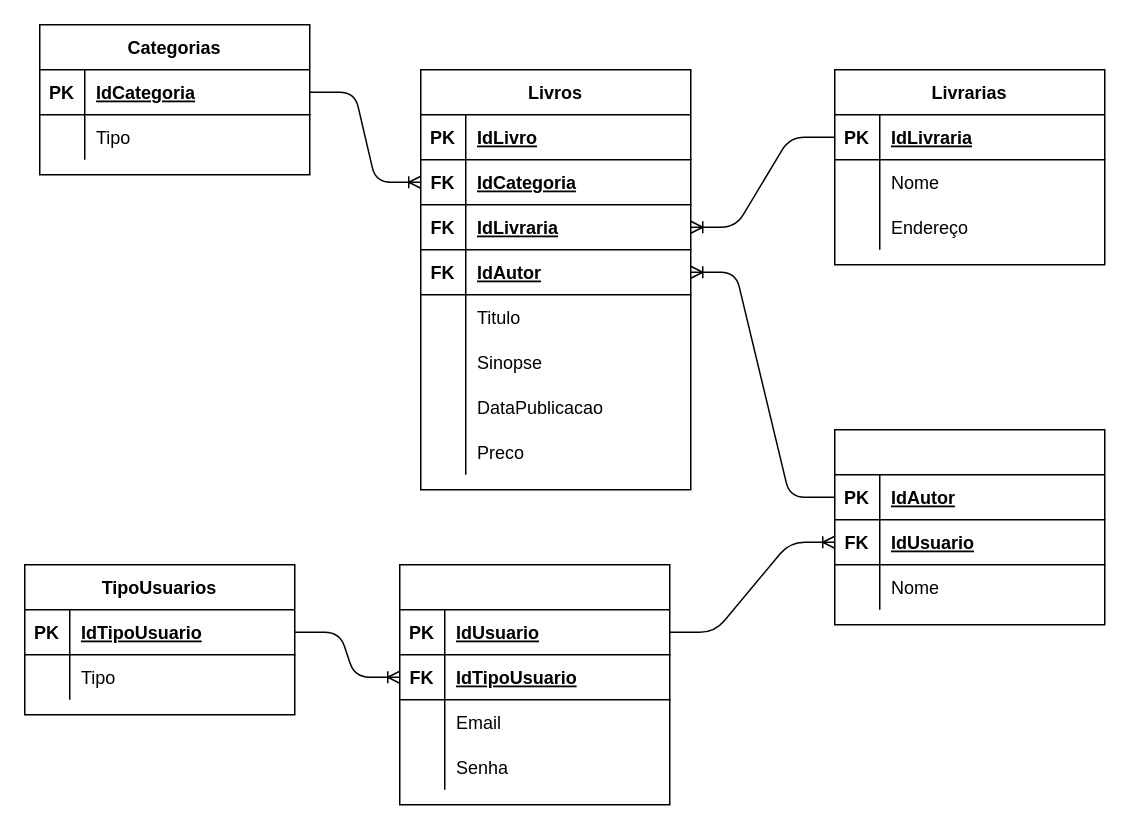
The diagram is 1130 pixels wide and 830 high, and some of its shapes have lost their labels. Each missing label, with the box of its shape:
Autores: (833, 428, 1105, 625)
Usuarios: (398, 563, 670, 805)
